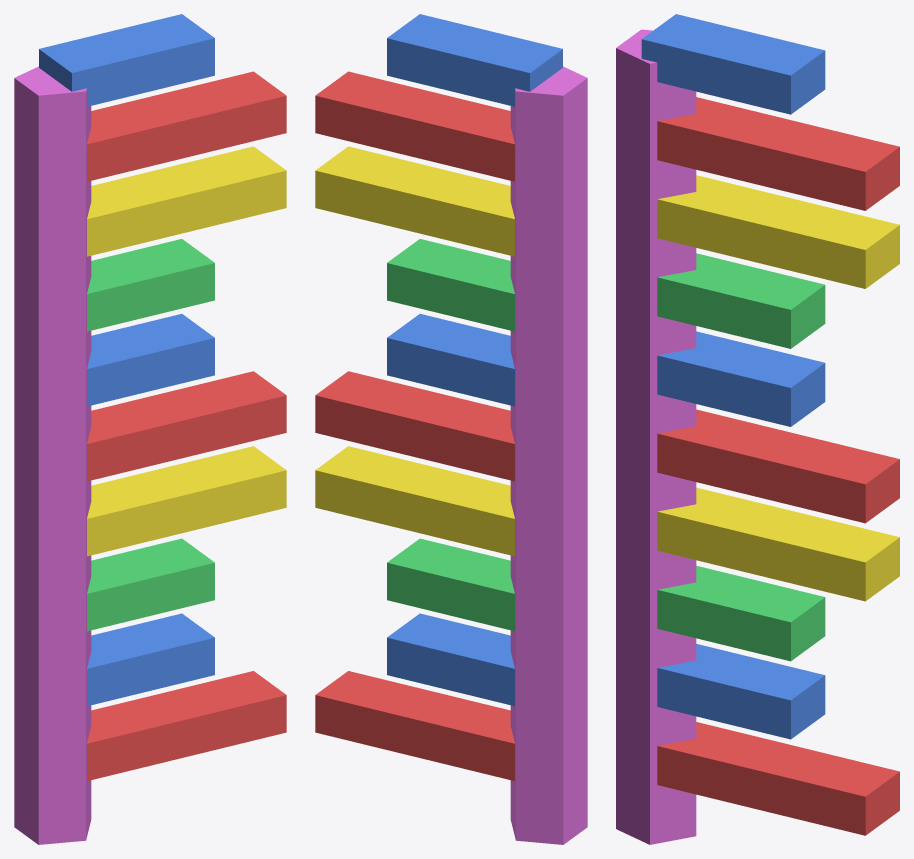
File: Ext_F_Straight_3.fbx
3 renders of one model, left to right at view 1: azimuth 30°, elevation 25°; view 2: azimuth 150°, elevation 25°; view 3: azimuth 330°, elevation 25°, orthographic. The views are drawn at different scales.
Visible parts, largest first — view 1: Ext_F_Straight_3; view 2: Ext_F_Straight_3; view 3: Ext_F_Straight_3.
Boxes of the visible parts, x1,y1,x2,y2 form: Ext_F_Straight_3: (14, 14, 286, 844); Ext_F_Straight_3: (315, 14, 587, 844); Ext_F_Straight_3: (616, 14, 899, 844).
Bounding box in the file's own units: 0.034 × 0.1025 × 0.00951.
